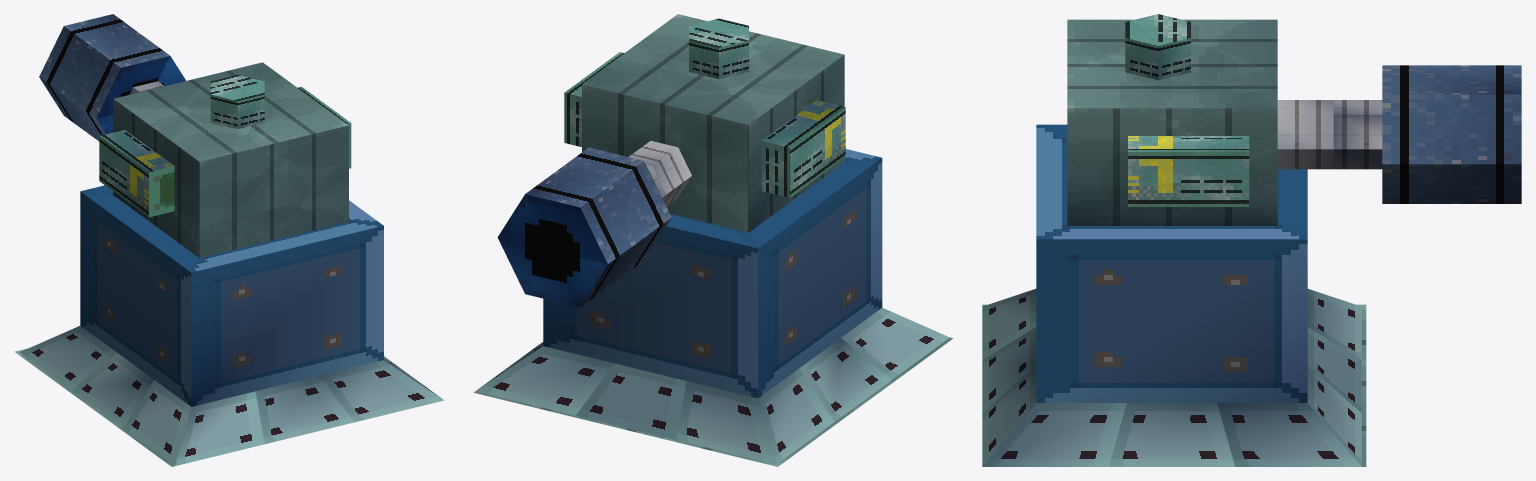
File: turret.glb
The picture shows the model from 3 angles, left to right: view 1: azimuth 30°, elevation 25°; view 2: azimuth 150°, elevation 25°; view 3: azimuth 270°, elevation 25°; orthographic projection. The views are drawn at different scales.
Visible parts, largest first — view 1: turretBody, turretHead, turrelBarrel; view 2: turretBody, turretHead, turrelBarrel; view 3: turretBody, turretHead, turrelBarrel.
Boxes of the visible parts, x1,y1,x2,y2 form: turretBody: [15, 185, 443, 466]; turretHead: [99, 62, 351, 258]; turrelBarrel: [39, 14, 185, 141]; turretBody: [474, 149, 952, 466]; turretHead: [564, 14, 845, 232]; turrelBarrel: [497, 141, 691, 307]; turretBody: [982, 124, 1366, 466]; turretHead: [1067, 14, 1277, 225]; turrelBarrel: [1277, 65, 1521, 203].
Bounding box in the file's own units: 24.22 × 24.83 × 34.03.
Materials: 3 (3 with a texture image).
